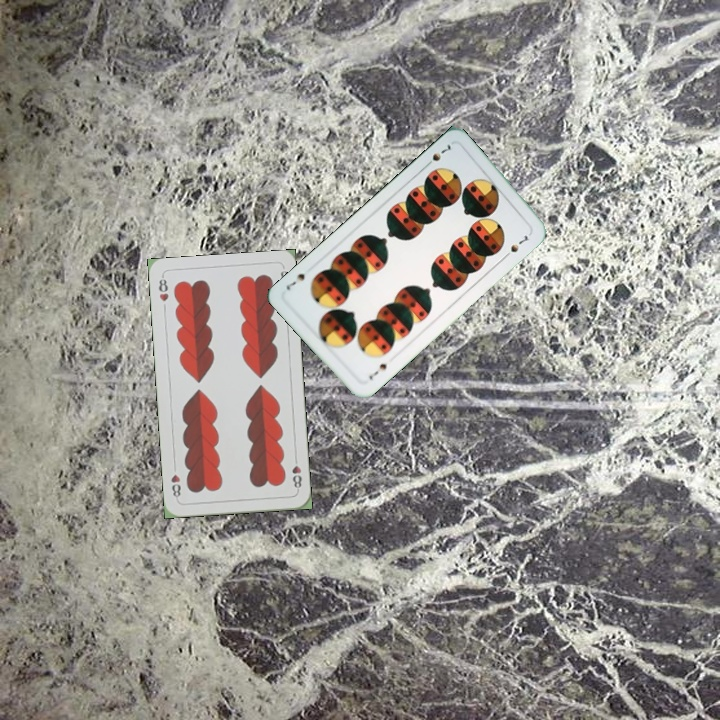H8: (288, 453, 304, 493), (155, 273, 171, 303)
S7: (421, 140, 456, 170), (365, 359, 390, 383)
